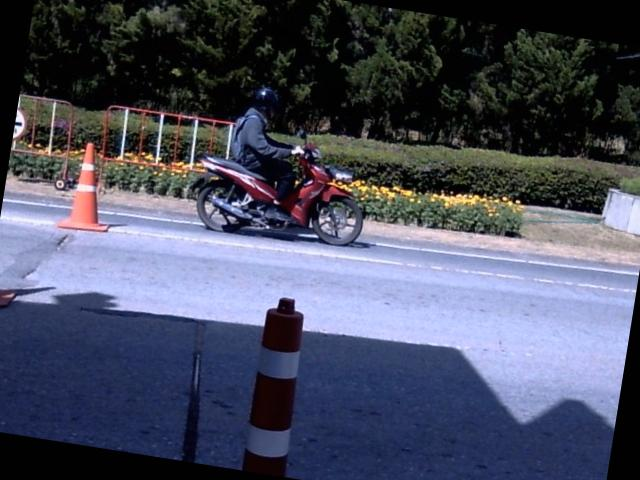helmet: (251, 85, 280, 119)
motor: (192, 144, 361, 245)
person: (233, 88, 302, 218)
